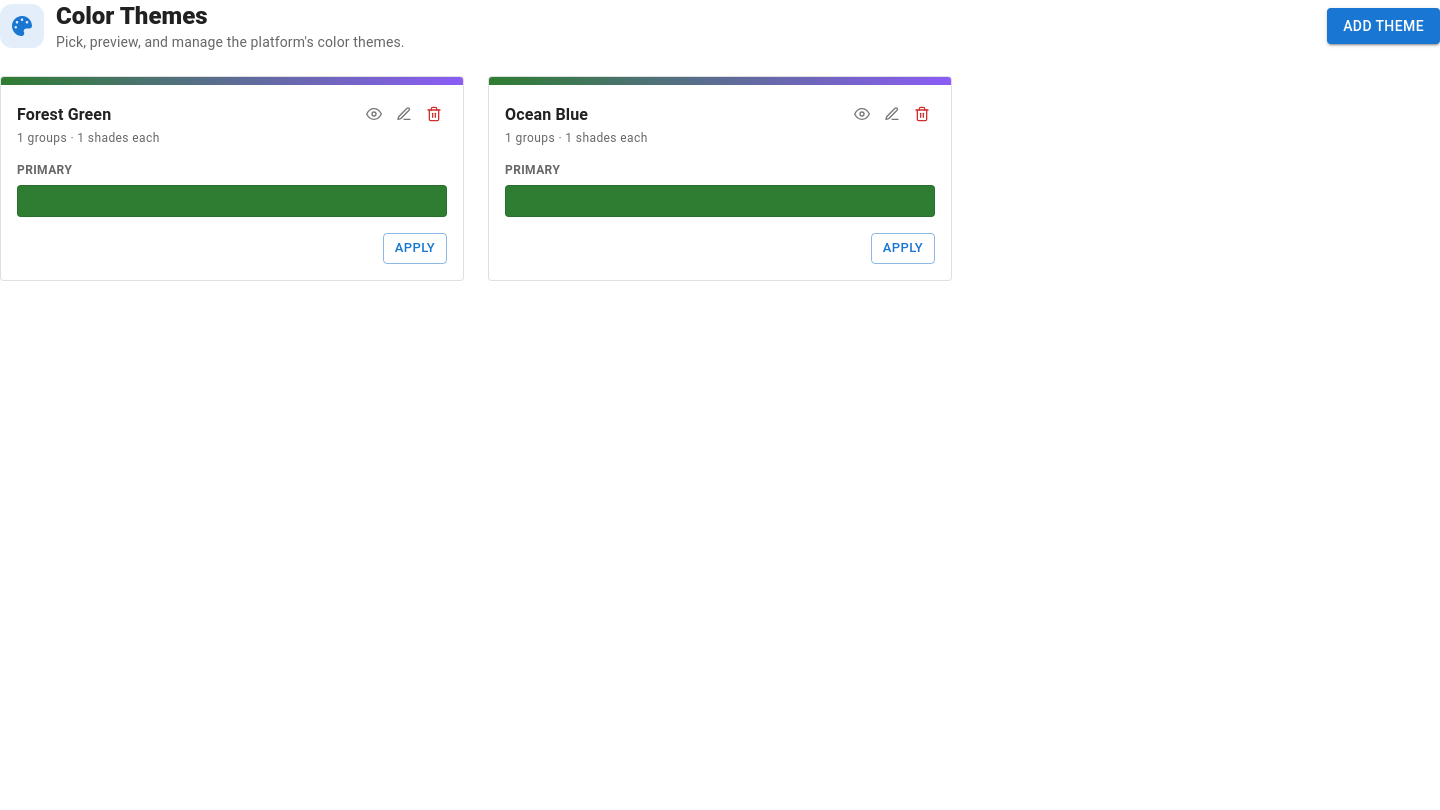
Test: ColorThemeListingTemplate › shows an error message if deletion fails
What coordinates should you click on to do the following:
click the button named "Delete" in the row of "Forest Green"
I would click on:
 (434, 114)
Its box is [421,101,447,127].
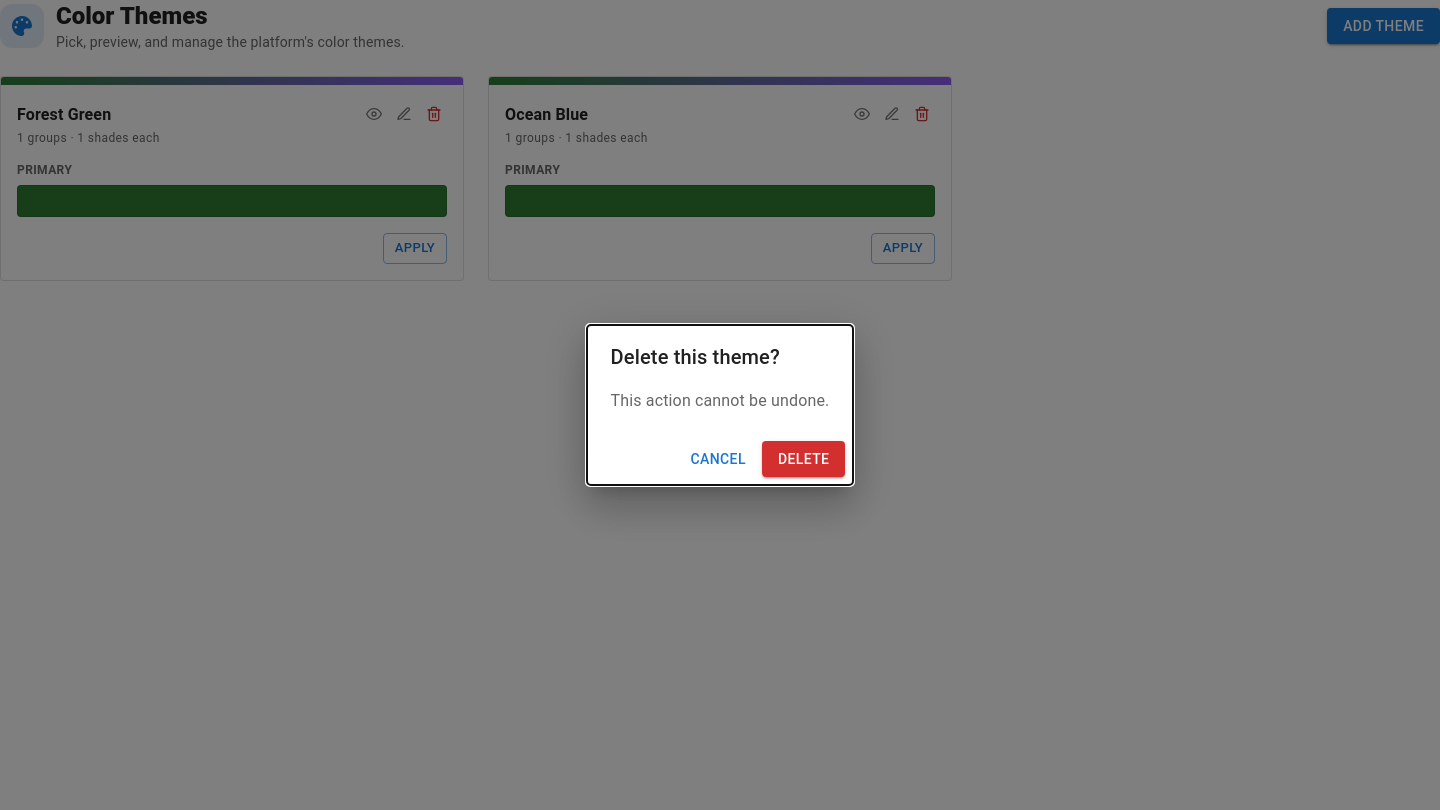
What coordinates should you click on to do the following:
click the button "Delete"
I would click on:
 (804, 459)
Its box is [762,441,845,477].
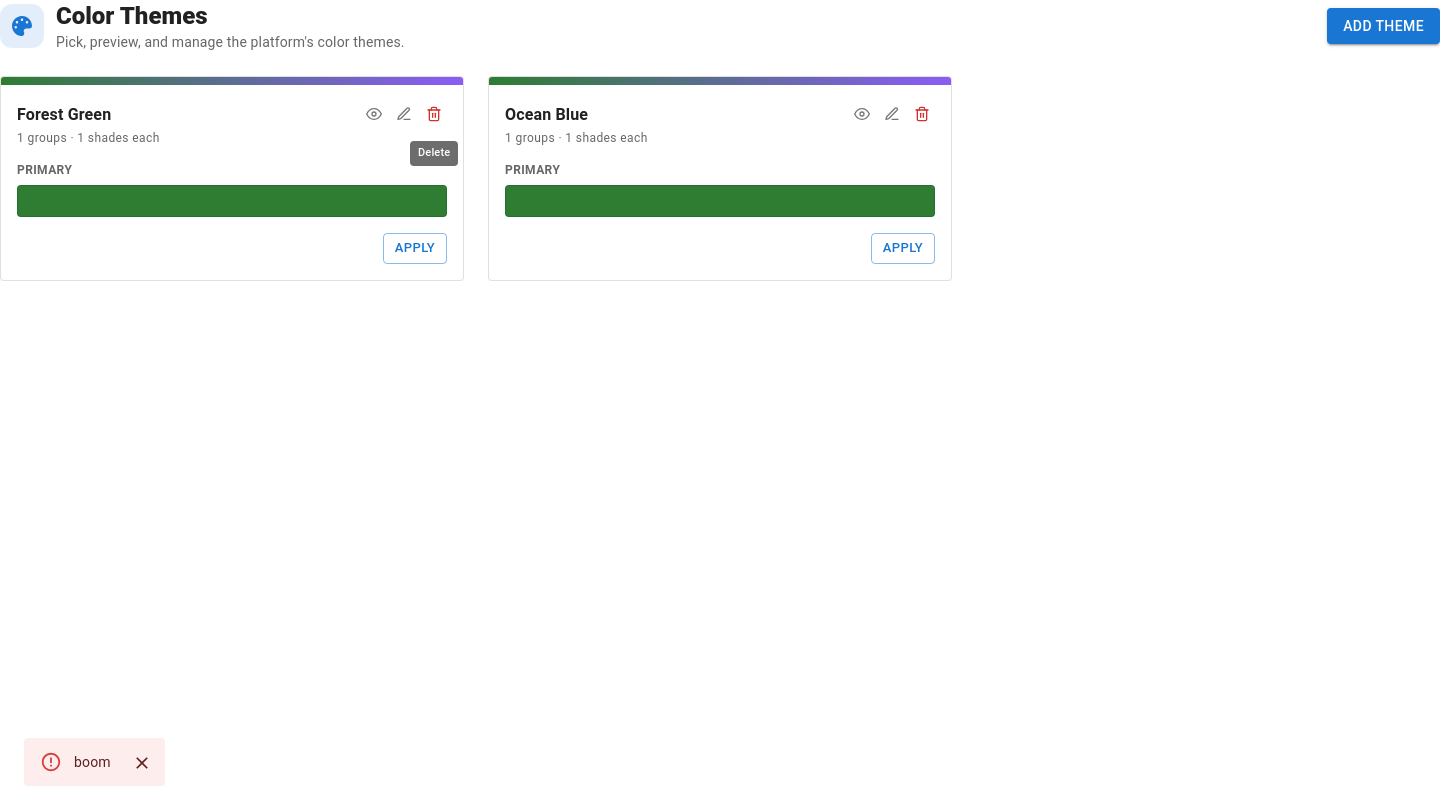
Result: the text "boom" is shown at [74,754,111,770]
